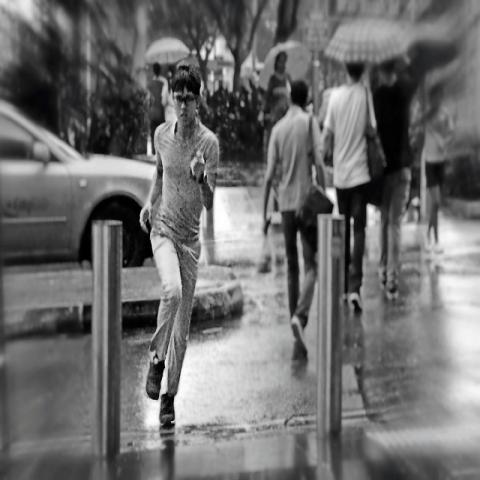car: (0, 102, 157, 268)
